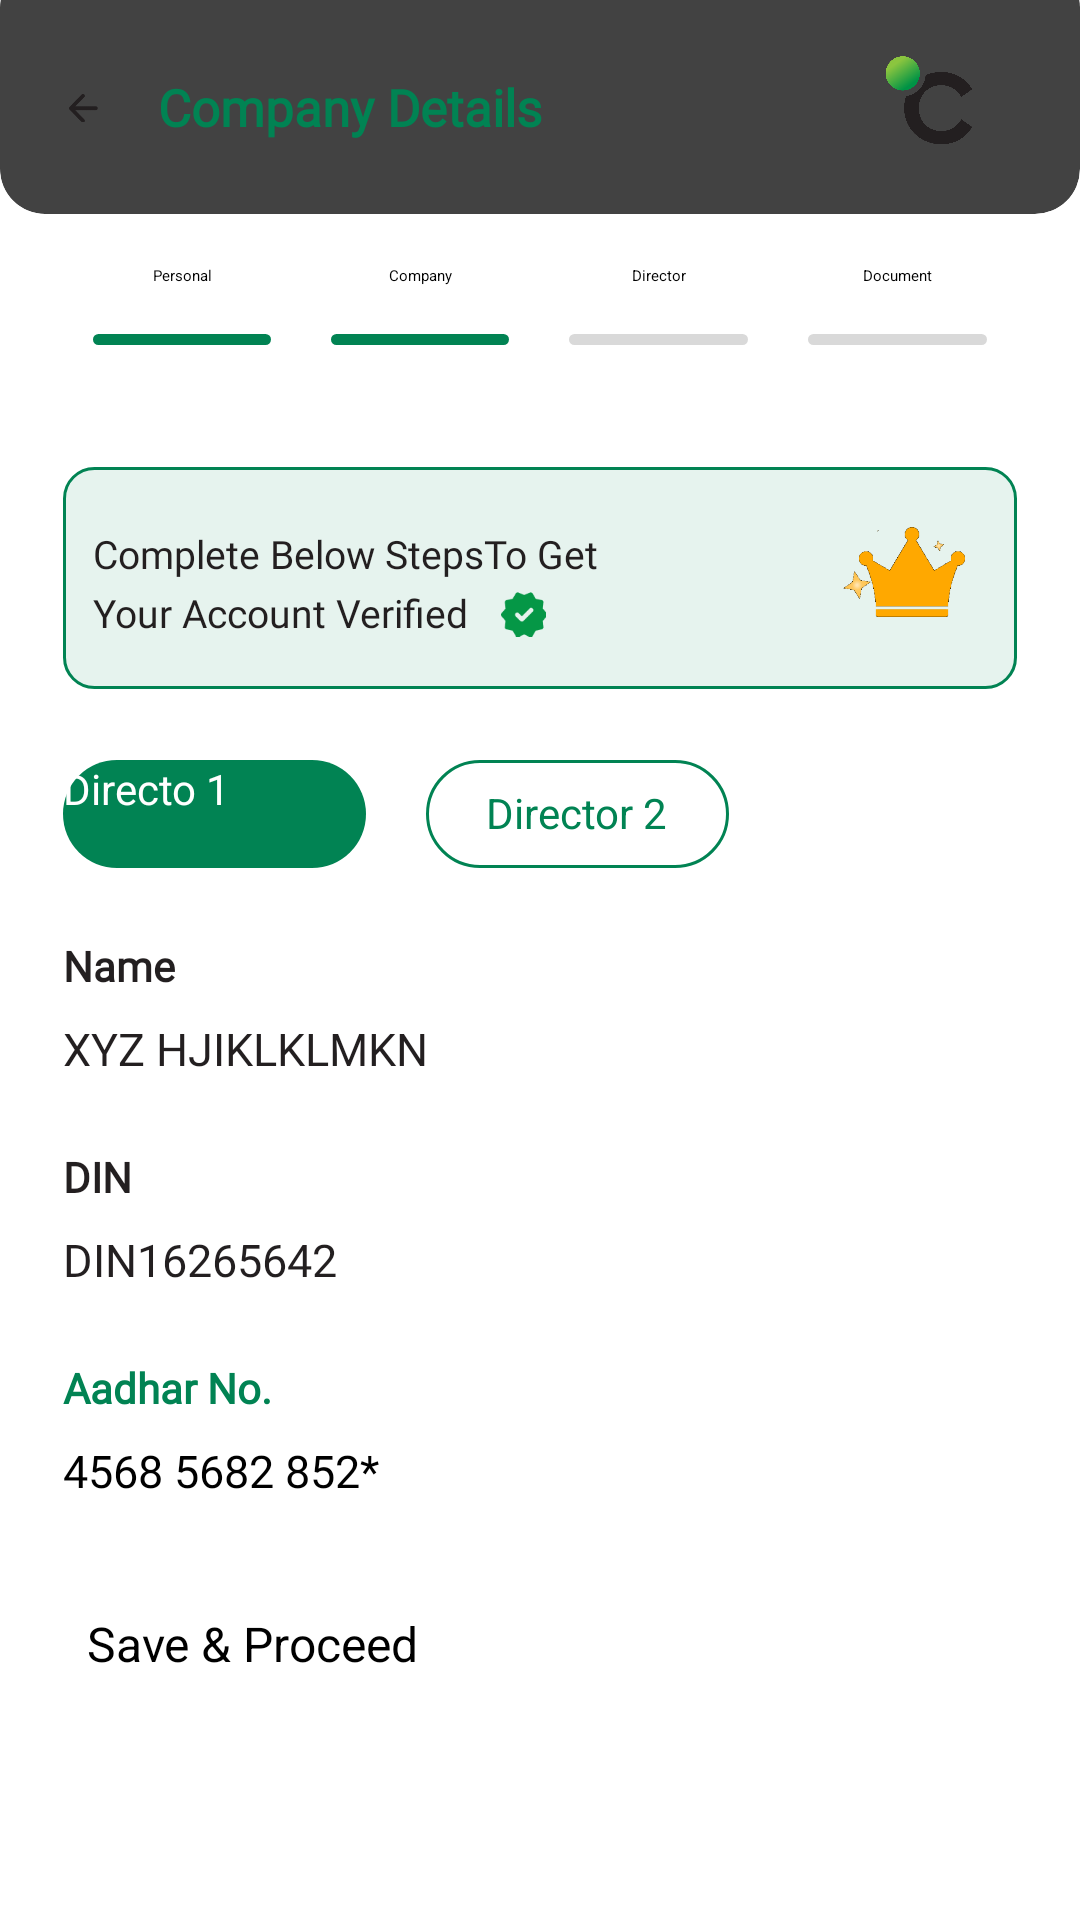

Where to tap for icons on this 1080w x 1920h app screen, as [x,y]:
arrow back: [83,108]
